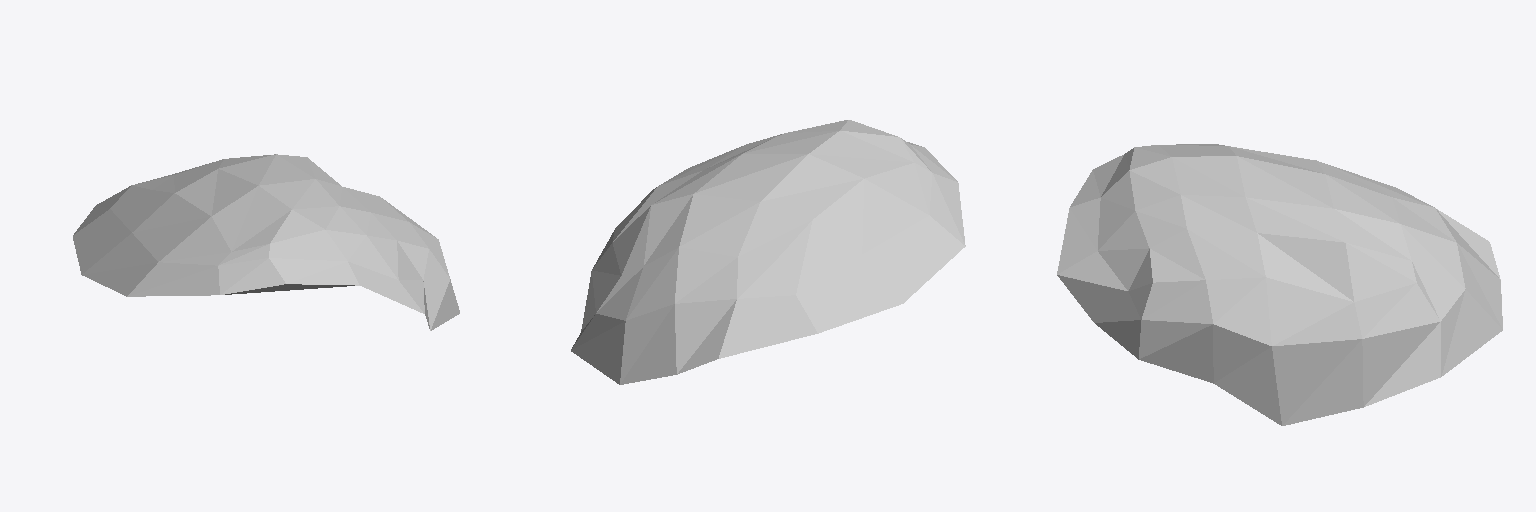
The model's file is Tree Top Small.obj.
3 views of the same model, side by side, from view 1: azimuth 30°, elevation 25°; view 2: azimuth 150°, elevation 25°; view 3: azimuth 270°, elevation 25° (orthographic).
Parts seen in each view (by area): view 1: pCube4; view 2: pCube4; view 3: pCube4.
Boxes of the visible parts, x1=… form: pCube4: x1=73, y1=154, x2=459, y2=330; pCube4: x1=571, y1=120, x2=965, y2=384; pCube4: x1=1057, y1=144, x2=1502, y2=425.
Size of the model in its own units: 1160 by 616 by 1373.